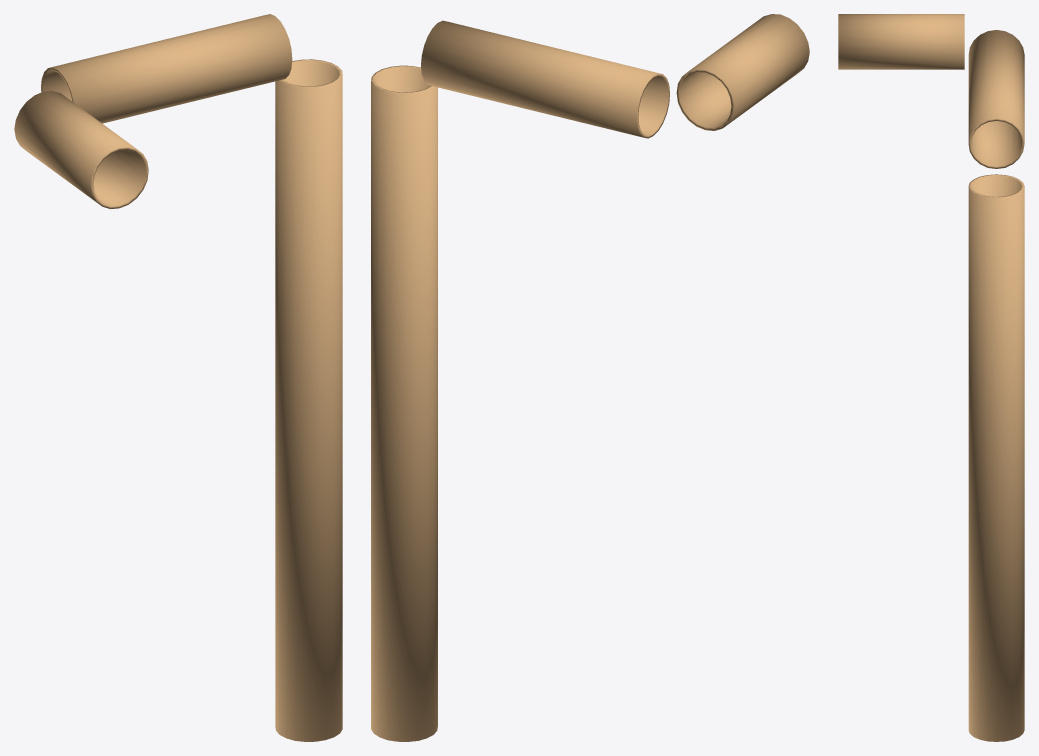
Rendered from slab_pipes_supply__plumbing__21cfd3ba.glb.
The picture shows the model from 3 angles, left to right: view 1: azimuth 30°, elevation 25°; view 2: azimuth 150°, elevation 25°; view 3: azimuth 270°, elevation 25°; orthographic projection. The views are drawn at different scales.
Visible parts, largest first — view 1: pipe_supply_manifold_feed__copper.905; view 2: pipe_supply_manifold_feed__copper.905; view 3: pipe_supply_manifold_feed__copper.905.
Part boxes in pixels (<box>): pipe_supply_manifold_feed__copper.905: <box>14,14,342,741</box>; pipe_supply_manifold_feed__copper.905: <box>371,14,809,741</box>; pipe_supply_manifold_feed__copper.905: <box>838,14,1024,741</box>.
Bounding box in the file's own units: 0.1302 × 0.2611 × 0.0737.
